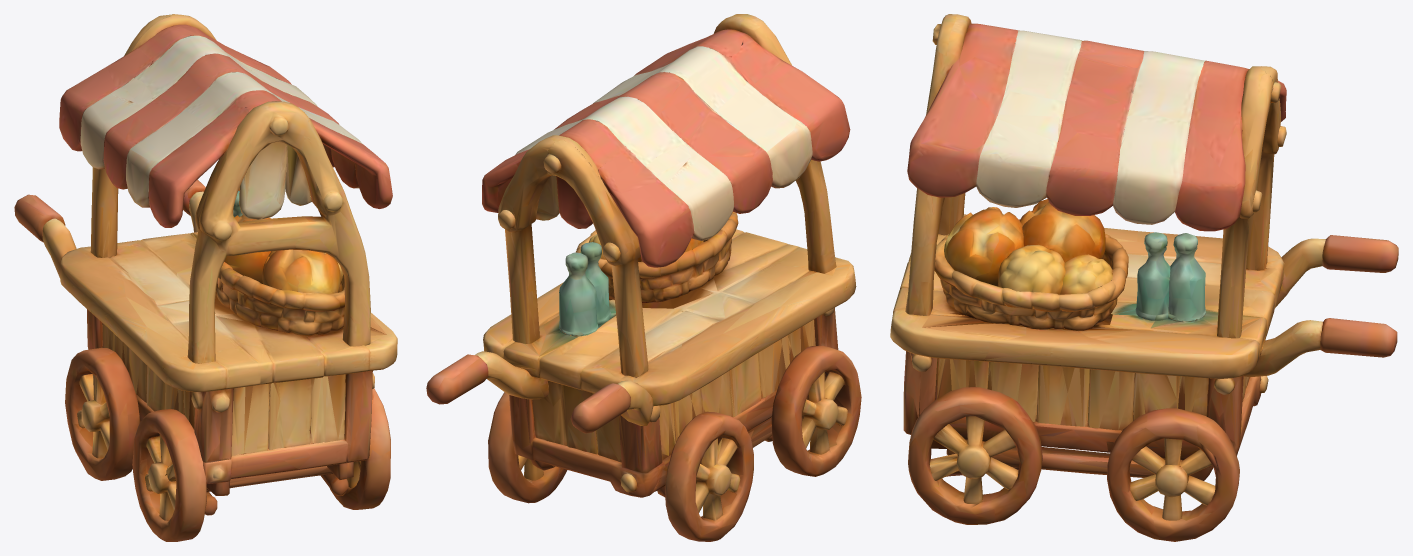
3 views of the same model, side by side, from view 1: azimuth 30°, elevation 25°; view 2: azimuth 150°, elevation 25°; view 3: azimuth 270°, elevation 25° (orthographic). The views are drawn at different scales.
Visible parts, largest first — view 1: P05-bakery-food-cart; view 2: P05-bakery-food-cart; view 3: P05-bakery-food-cart.
Boxes of the visible parts, x1,y1,x2,y2 form: P05-bakery-food-cart: (14,14,397,541); P05-bakery-food-cart: (426,14,861,541); P05-bakery-food-cart: (890,14,1398,541).
Size of the model in its own units: 1.1 by 1.9 by 1.89.
1 material, 1 textured.
